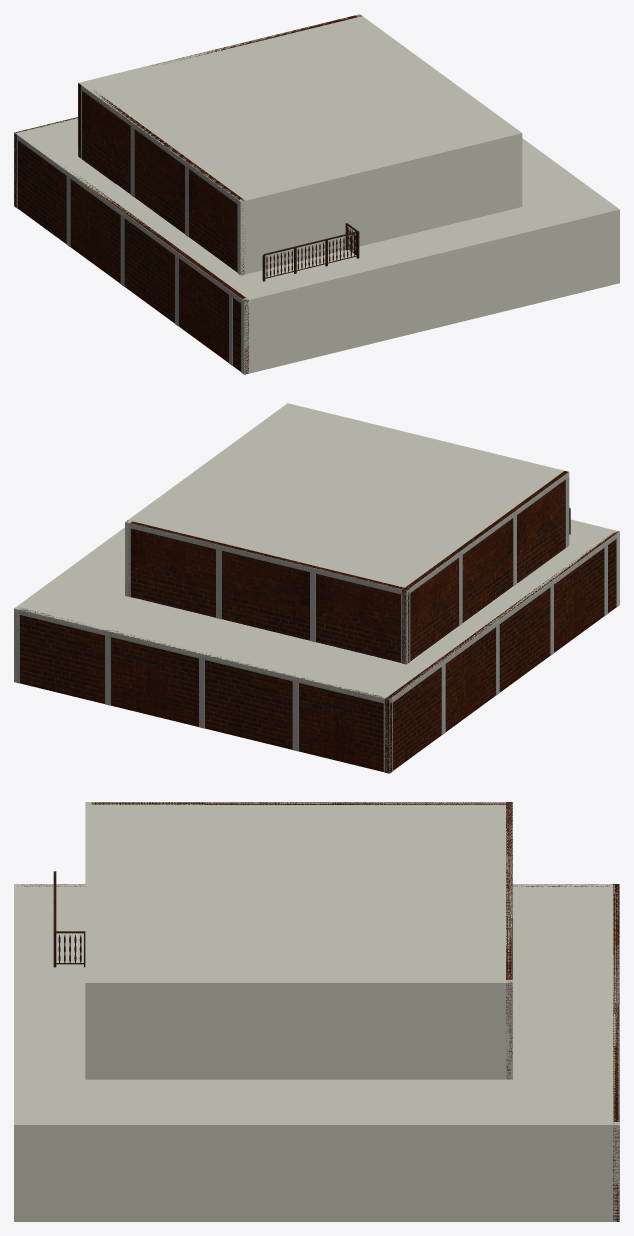
File: building.glb
The picture shows the model from 3 angles, top to bottom: view 1: azimuth 30°, elevation 25°; view 2: azimuth 150°, elevation 25°; view 3: azimuth 270°, elevation 25°; orthographic projection. The views are drawn at different scales.
Visible parts, largest first — view 1: roof/upper:0/roof_slab#0001, lower:0/edge0/z0/lower:0/edge0/z0/wall_0_0, upper:0/edge0/z3/upper:0/edge0/z3/wall_0_0, roof/lower:0/roof_slab#0001, lower:0/edge3/z0/lower:0/edge3/z0/wall_0_0, upper:0/edge3/z3/upper:0/edge3/z3/wall_0_0, lower:0/edge3/z0/lower:0/edge3/z0/beam_0_0, upper:0/edge1/z3/upper:0/edge1/z3/wall_0_0, upper:0/edge3/z3/upper:0/edge3/z3/beam_0_0, lower:0/edge1/z0/lower:0/edge1/z0/wall_0_0, upper:0/edge2/z3/upper:0/edge2/z3/wall_0_0; view 2: roof/upper:0/roof_slab#0001, lower:0/edge2/z0/lower:0/edge2/z0/wall_0_0, roof/lower:0/roof_slab#0001, upper:0/edge2/z3/upper:0/edge2/z3/wall_0_0, lower:0/edge3/z0/lower:0/edge3/z0/wall_0_0, upper:0/edge3/z3/upper:0/edge3/z3/wall_0_0, lower:0/edge2/z0/lower:0/edge2/z0/beam_0_0, upper:0/edge2/z3/upper:0/edge2/z3/beam_0_0, lower:0/edge3/z0/lower:0/edge3/z0/beam_0_0, upper:0/edge1/z3/upper:0/edge1/z3/wall_0_0, upper:0/edge3/z3/upper:0/edge3/z3/beam_0_0, upper:0/edge0/z3/upper:0/edge0/z3/wall_0_0 (+1 smaller); view 3: roof/upper:0/roof_slab#0001, roof/lower:0/roof_slab#0001, lower:0/edge1/z0/lower:0/edge1/z0/wall_0_0, upper:0/edge1/z3/upper:0/edge1/z3/wall_0_0, lower:0/edge0/z0/lower:0/edge0/z0/wall_0_0, upper:0/edge0/z3/upper:0/edge0/z3/wall_0_0, lower:0/edge2/z0/lower:0/edge2/z0/wall_0_0, upper:0/edge2/z3/upper:0/edge2/z3/wall_0_0, upper:0/edge3/z3/upper:0/edge3/z3/wall_0_0.
Boxes of the visible parts, x1,y1,x2,y2 form: roof/upper:0/roof_slab#0001: [78, 14, 520, 204]; lower:0/edge0/z0/lower:0/edge0/z0/wall_0_0: [241, 209, 619, 374]; upper:0/edge0/z3/upper:0/edge0/z3/wall_0_0: [238, 132, 522, 275]; roof/lower:0/roof_slab#0001: [14, 117, 618, 303]; lower:0/edge3/z0/lower:0/edge3/z0/wall_0_0: [17, 140, 248, 374]; upper:0/edge3/z3/upper:0/edge3/z3/wall_0_0: [82, 90, 244, 274]; lower:0/edge3/z0/lower:0/edge3/z0/beam_0_0: [14, 133, 243, 303]; upper:0/edge1/z3/upper:0/edge1/z3/wall_0_0: [355, 14, 522, 207]; upper:0/edge3/z3/upper:0/edge3/z3/beam_0_0: [81, 85, 240, 205]; lower:0/edge1/z0/lower:0/edge1/z0/wall_0_0: [522, 138, 619, 284]; upper:0/edge2/z3/upper:0/edge2/z3/wall_0_0: [78, 15, 361, 158]; roof/upper:0/roof_slab#0001: [127, 404, 568, 592]; lower:0/edge2/z0/lower:0/edge2/z0/wall_0_0: [20, 608, 392, 772]; roof/lower:0/roof_slab#0001: [14, 520, 619, 703]; upper:0/edge2/z3/upper:0/edge2/z3/wall_0_0: [127, 520, 409, 662]; lower:0/edge3/z0/lower:0/edge3/z0/wall_0_0: [385, 531, 619, 773]; upper:0/edge3/z3/upper:0/edge3/z3/wall_0_0: [402, 471, 568, 663]; lower:0/edge2/z0/lower:0/edge2/z0/beam_0_0: [14, 609, 389, 703]; upper:0/edge2/z3/upper:0/edge2/z3/beam_0_0: [125, 522, 406, 595]; lower:0/edge3/z0/lower:0/edge3/z0/beam_0_0: [389, 533, 619, 704]; upper:0/edge1/z3/upper:0/edge1/z3/wall_0_0: [125, 405, 289, 596]; upper:0/edge3/z3/upper:0/edge3/z3/beam_0_0: [406, 472, 568, 595]; upper:0/edge0/z3/upper:0/edge0/z3/wall_0_0: [285, 403, 569, 477]; roof/upper:0/roof_slab#0001: [85, 802, 512, 987]; roof/lower:0/roof_slab#0001: [14, 884, 619, 1129]; lower:0/edge1/z0/lower:0/edge1/z0/wall_0_0: [14, 1122, 619, 1221]; upper:0/edge1/z3/upper:0/edge1/z3/wall_0_0: [85, 980, 512, 1079]; lower:0/edge0/z0/lower:0/edge0/z0/wall_0_0: [14, 884, 20, 1221]; upper:0/edge0/z3/upper:0/edge0/z3/wall_0_0: [85, 802, 92, 1079]; lower:0/edge2/z0/lower:0/edge2/z0/wall_0_0: [613, 884, 619, 1221]; upper:0/edge2/z3/upper:0/edge2/z3/wall_0_0: [506, 802, 512, 1078]; upper:0/edge3/z3/upper:0/edge3/z3/wall_0_0: [91, 802, 510, 804].
Size of the model in its own units: 16 by 6 by 17.
4 materials, 2 textured.
